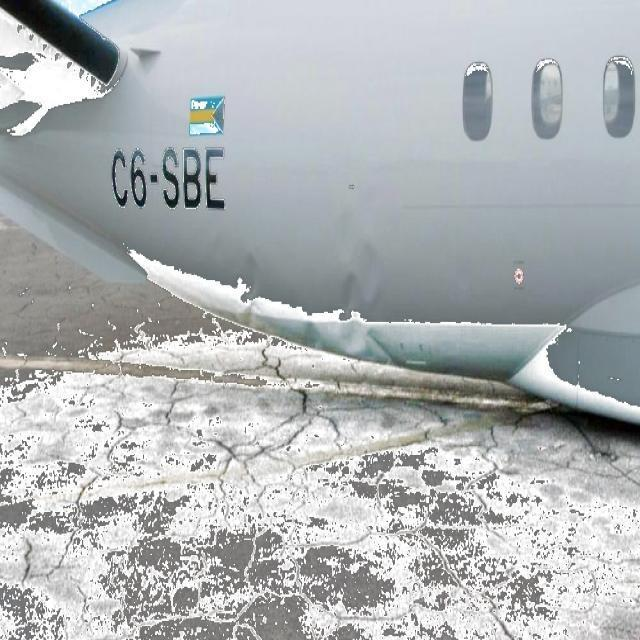dent: (324, 178, 380, 359), (233, 240, 269, 348)
